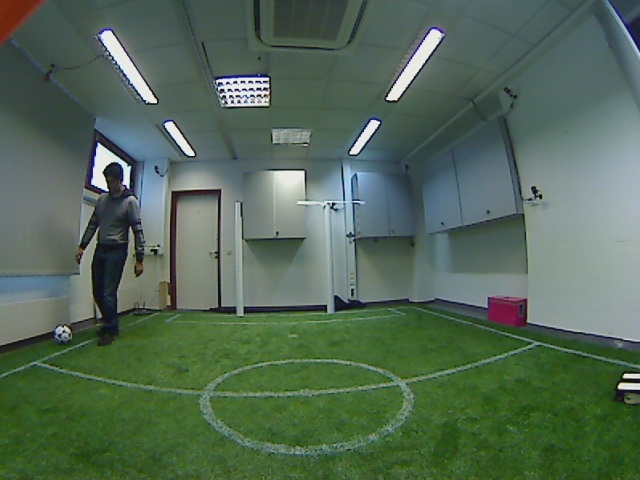ball: (50, 322, 79, 348)
